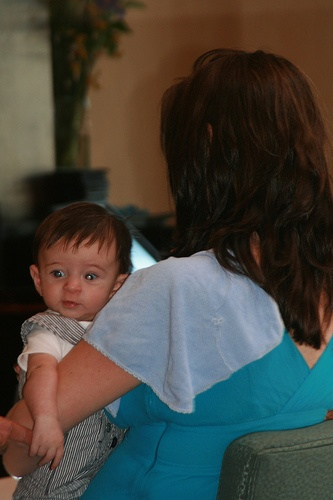head: (30, 201, 132, 319)
person: (7, 67, 326, 476), (0, 201, 152, 497)
